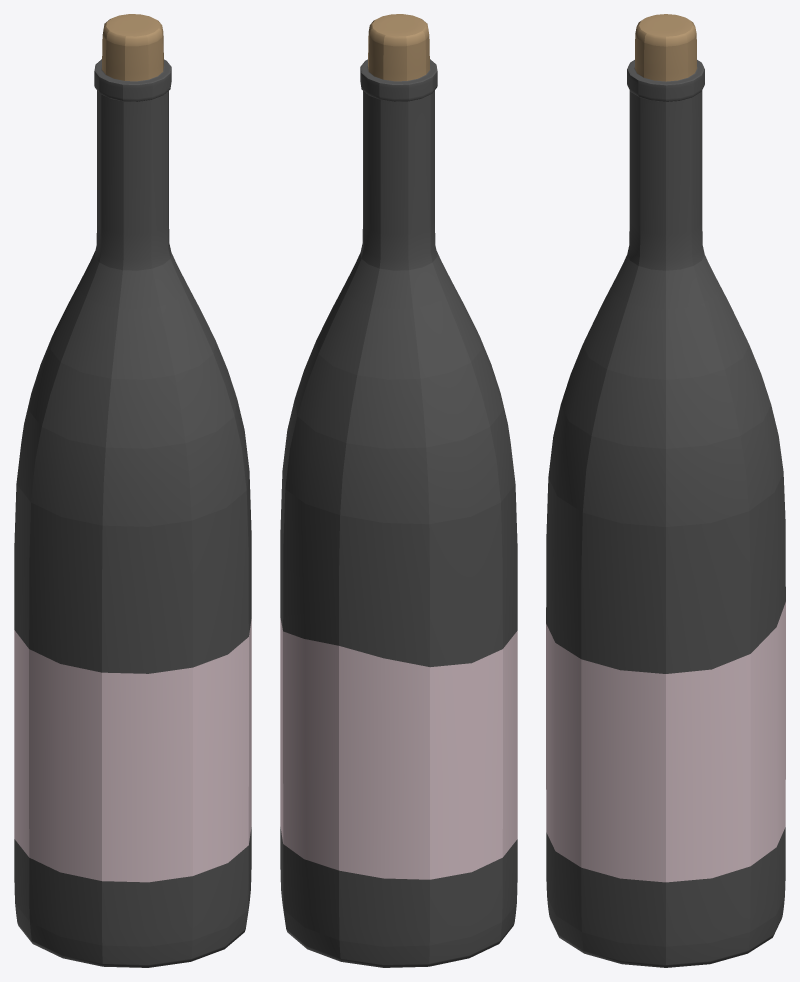
File: Sise.fbx
3 views of the same model, side by side, from view 1: azimuth 30°, elevation 25°; view 2: azimuth 150°, elevation 25°; view 3: azimuth 270°, elevation 25° (orthographic).
Parts seen in each view (by area): view 1: Circle.004; view 2: Circle.004; view 3: Circle.004.
Part boxes in pixels (box(x1,y1,x2,y2)): Circle.004: box(14, 14, 251, 967); Circle.004: box(280, 14, 517, 967); Circle.004: box(546, 14, 785, 967).
Bounding box in the file's own units: 242 × 995 × 242.
